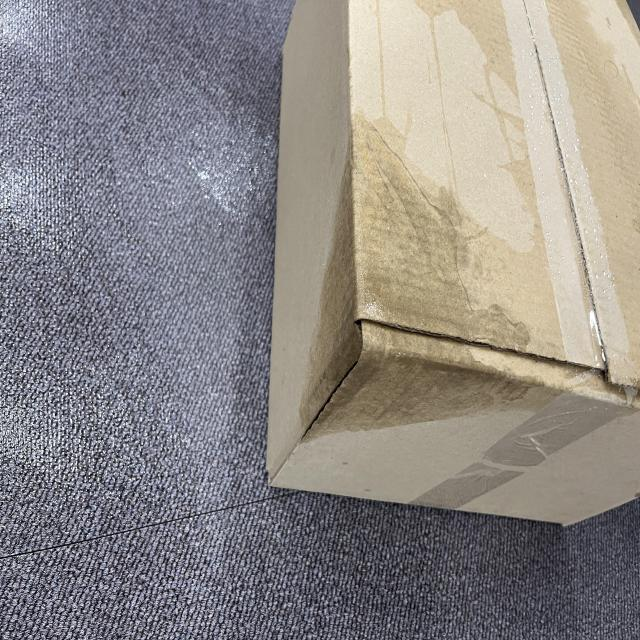wet: (2, 137, 361, 640)
